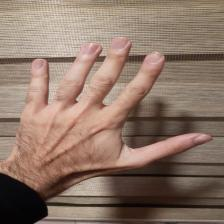five: (19, 36, 216, 183)
